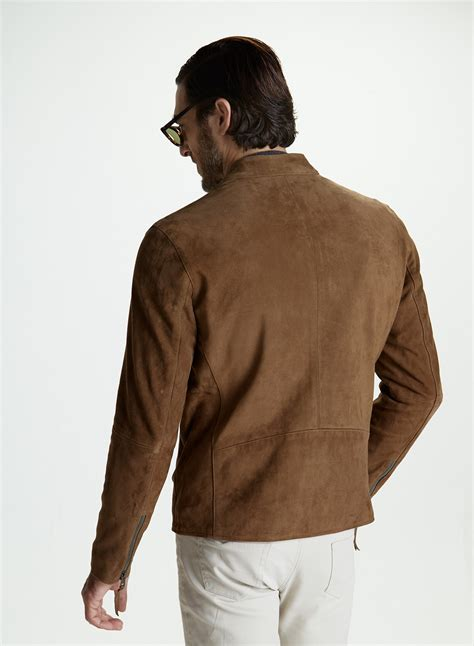gamuza: (90, 153, 442, 584)
